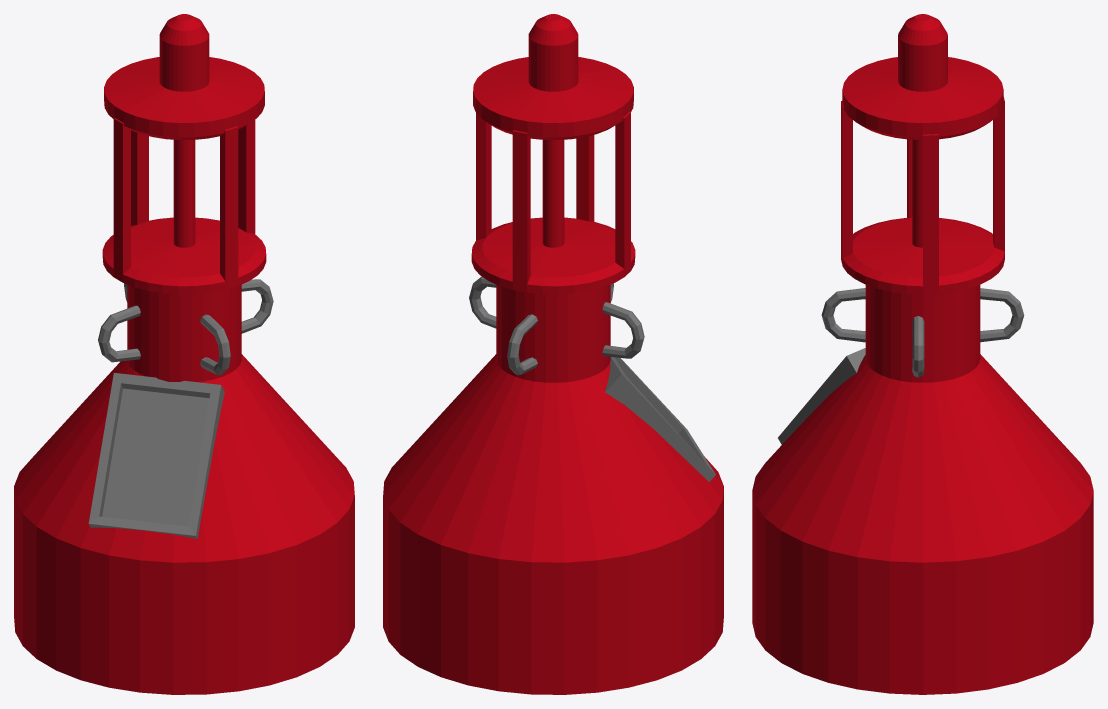
Rendered from Boje.fbx.
3 renders of one model, left to right at view 1: azimuth 30°, elevation 25°; view 2: azimuth 150°, elevation 25°; view 3: azimuth 270°, elevation 25°, orthographic.
Visible parts, largest first — view 1: Boje, Frame, ChainAnkor4, ChainAnkor2, ChainAnkor3; view 2: Boje, Frame, ChainAnkor4, ChainAnkor1, ChainAnkor3; view 3: Boje, Frame, ChainAnkor2, ChainAnkor1, ChainAnkor3.
Boxes of the visible parts, box(x1,y1,x2,y2) form: Boje: box(14, 14, 354, 694); Frame: box(88, 373, 224, 538); ChainAnkor4: box(98, 305, 140, 362); ChainAnkor2: box(200, 314, 230, 375); ChainAnkor3: box(241, 279, 273, 333); Boje: box(383, 14, 723, 694); Frame: box(605, 357, 715, 481); ChainAnkor4: box(602, 302, 644, 358); ChainAnkor1: box(507, 314, 537, 375); ChainAnkor3: box(469, 276, 496, 328); Boje: box(752, 14, 1093, 694); Frame: box(778, 348, 865, 444); ChainAnkor2: box(821, 288, 865, 342); ChainAnkor1: box(980, 288, 1024, 342); ChainAnkor3: box(912, 316, 924, 377).
Bounding box in the file's own units: 200 × 391 × 200.
